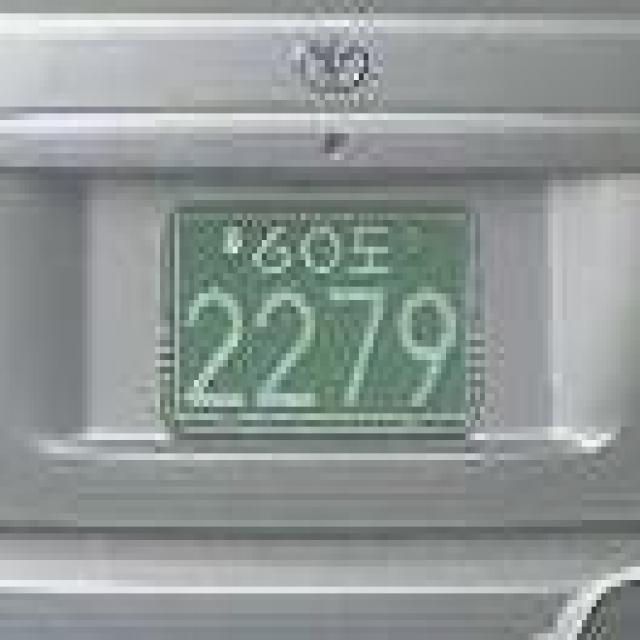illegal_plate: (154, 186, 496, 459)
